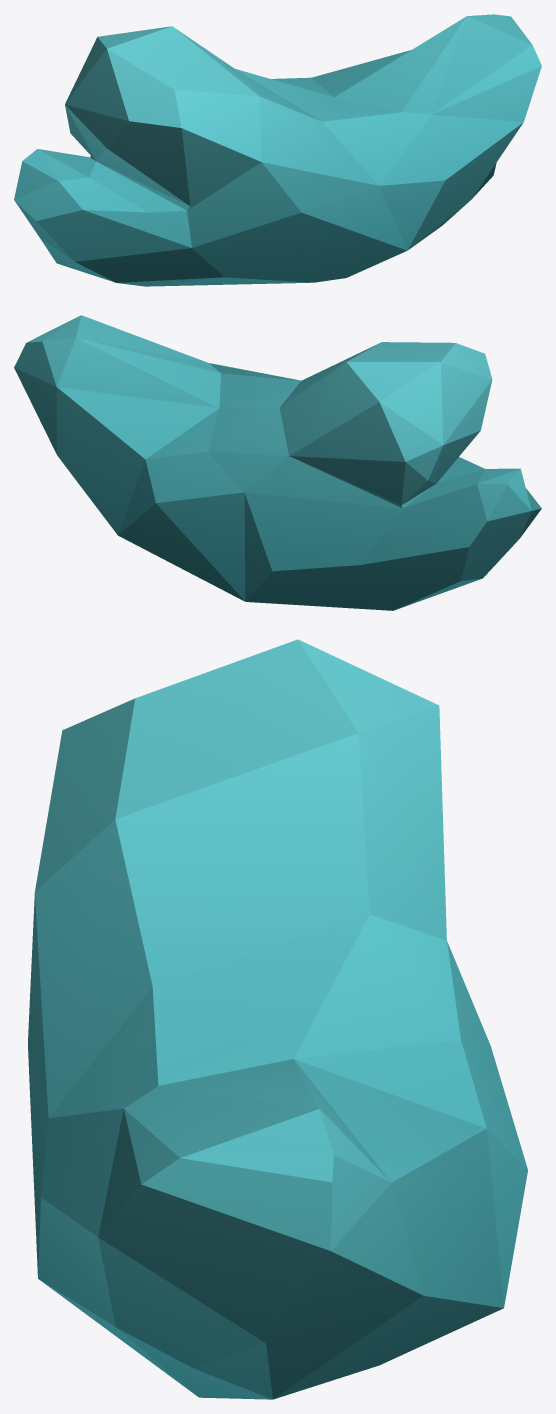
The model's file is Bush_Crescent_Blue_01.fbx.
The picture shows the model from 3 angles, top to bottom: view 1: azimuth 30°, elevation 25°; view 2: azimuth 150°, elevation 25°; view 3: azimuth 270°, elevation 25°; orthographic projection. The views are drawn at different scales.
Visible parts, largest first — view 1: Bush_Crescent_Blue; view 2: Bush_Crescent_Blue; view 3: Bush_Crescent_Blue.
Part boxes in pixels (bbox=[...]): Bush_Crescent_Blue: bbox=[14, 14, 541, 286]; Bush_Crescent_Blue: bbox=[14, 315, 541, 610]; Bush_Crescent_Blue: bbox=[28, 639, 527, 1399].
Bounding box in the file's own units: 4 × 1.8 × 1.7.
